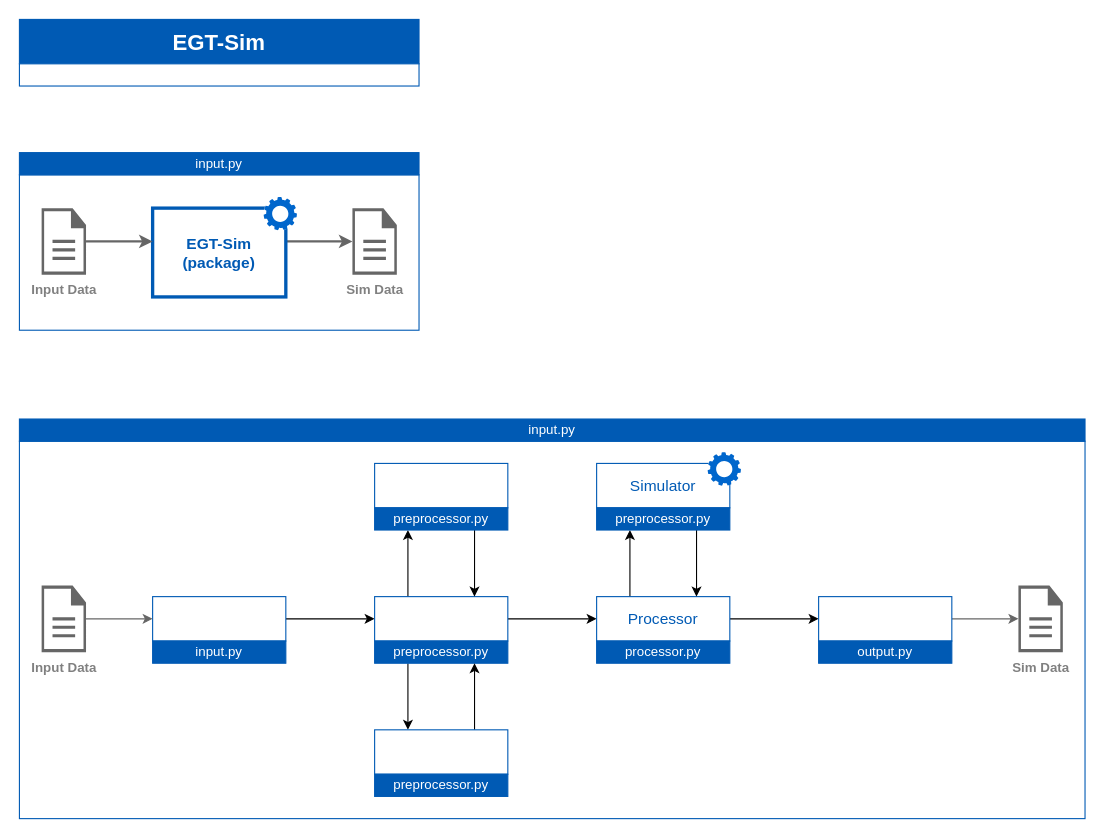
The diagram is 1104 pixels wide and 838 high, and some of its shapes have lost their labels. Each missing label, with the centre of its shape:
Builder: (441,751)
High Level Architecture: (218,74)
Input: (219,618)
Output: (885,618)
Pre-Processor: (441,618)
Validator: (441,485)
